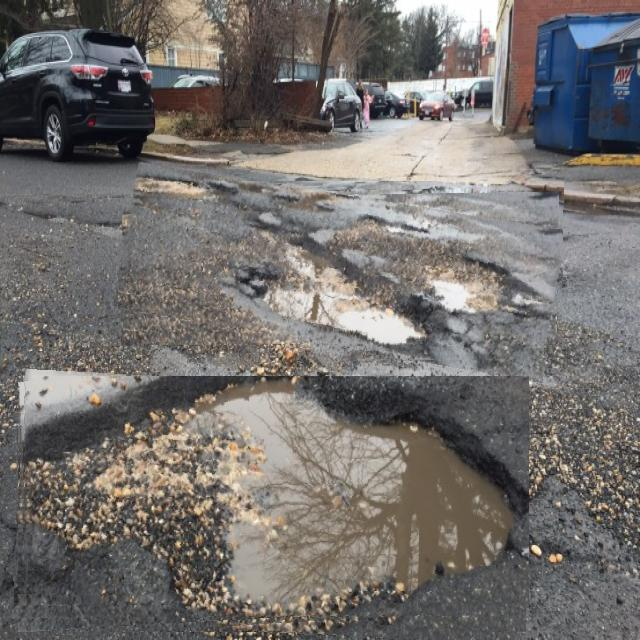Pothole: (15, 376, 529, 638), (118, 181, 564, 365)
